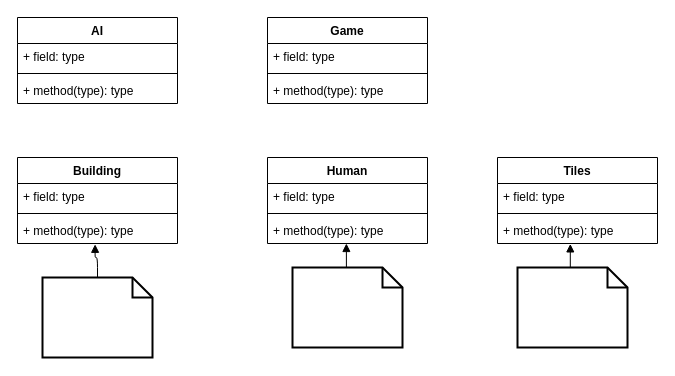
Image size: 675x376. Some labels were removed from this diagram. The centre of each missing label's shape, as x and y in pixels:
All the building types: point (97, 317)
All the tile types: point (572, 307)
All the worker types: point (347, 307)
